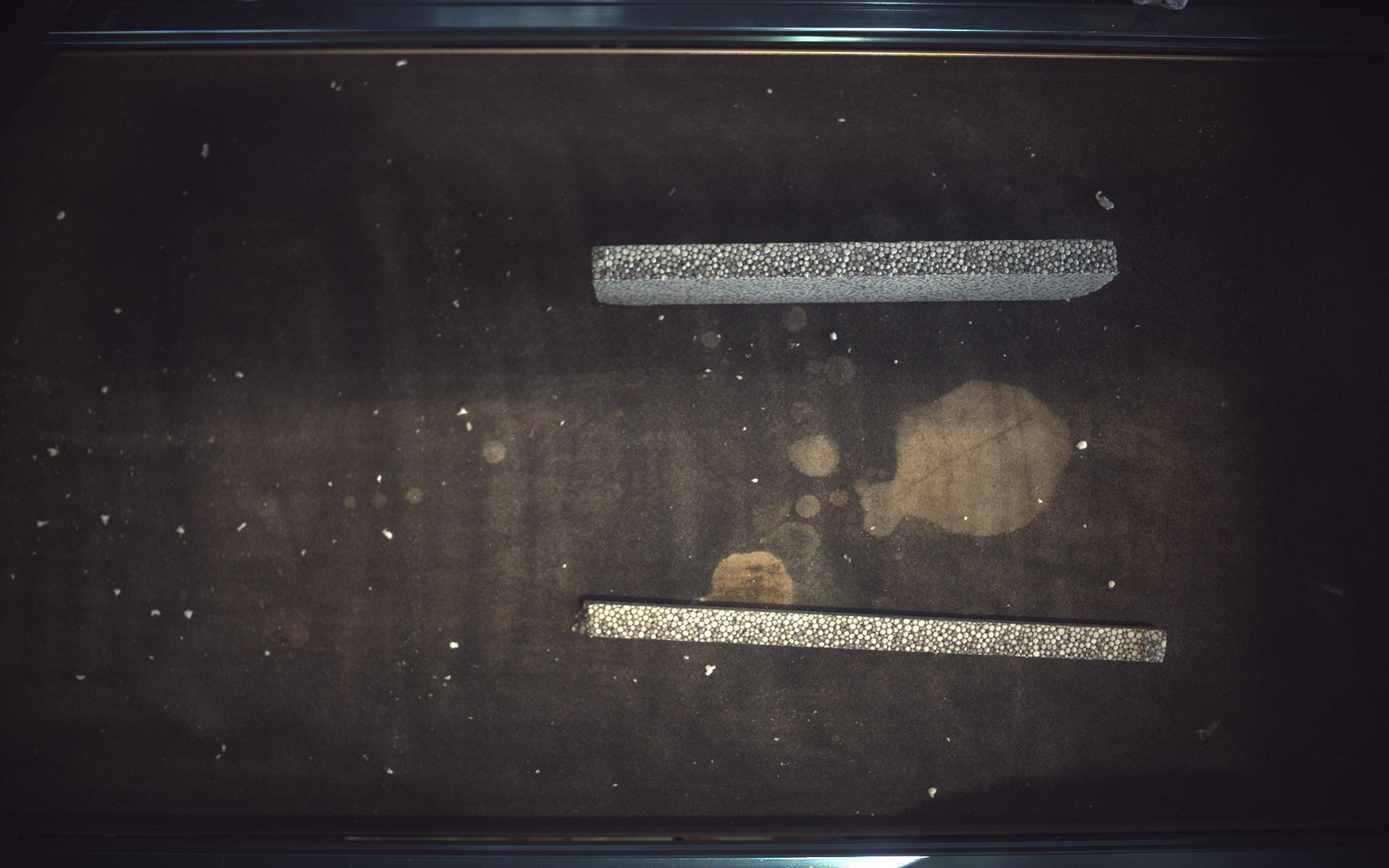foam: (576, 600, 1168, 664), (594, 239, 1121, 305)
